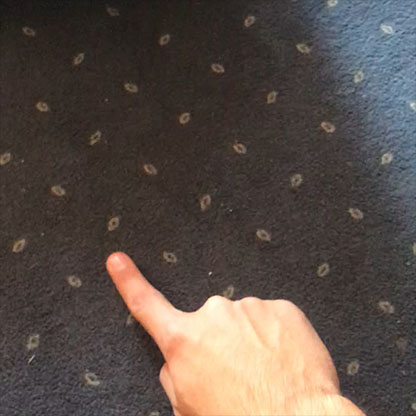fingertip: (99, 245, 136, 282)
